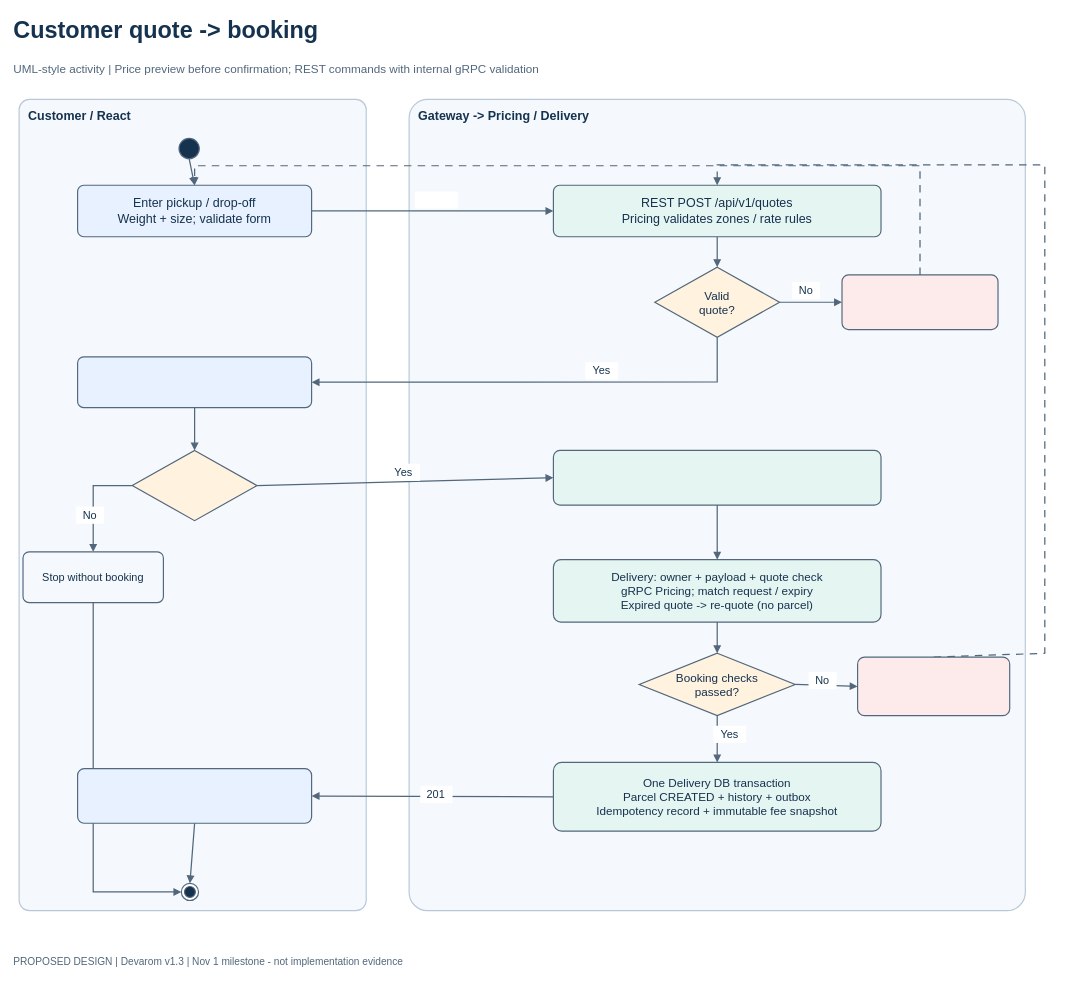
This 1065x986 diagram has some shape labels left out. The shapes that lost their labels are listed below. From the top down, each one's box as (x1, y1, x2, y2) in pixels, then its label:
(414, 191, 458, 208): REST
(841, 274, 998, 330): Return validation error Correct request
(77, 356, 312, 408): Display estimated fee Currency + quote expiry
(131, 450, 257, 521): Confirm booking?
(552, 450, 881, 505): POST /api/v1/parcels quoteId + Idempotency-Key
(857, 656, 1010, 716): No parcel created Re-quote / retry
(77, 768, 312, 824): 201 Created Show tracking number + detail
